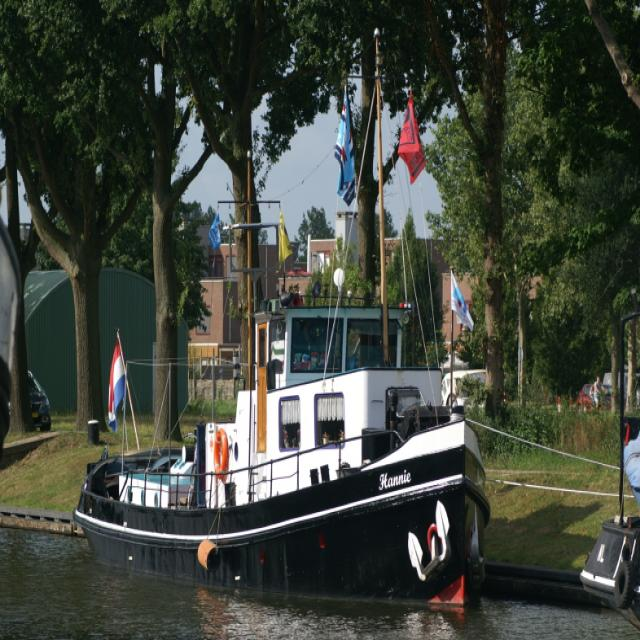tugboat: (69, 145, 496, 618)
